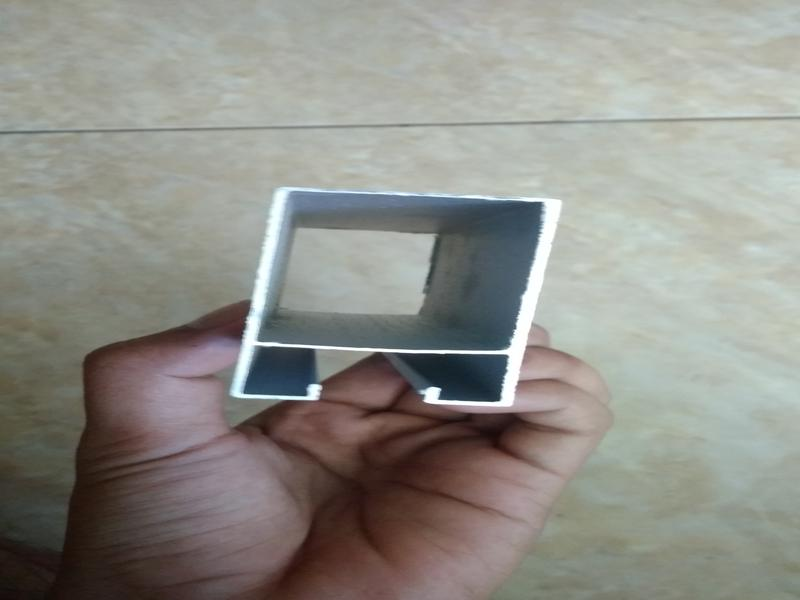Aluminium_1: (216, 138, 582, 440)
